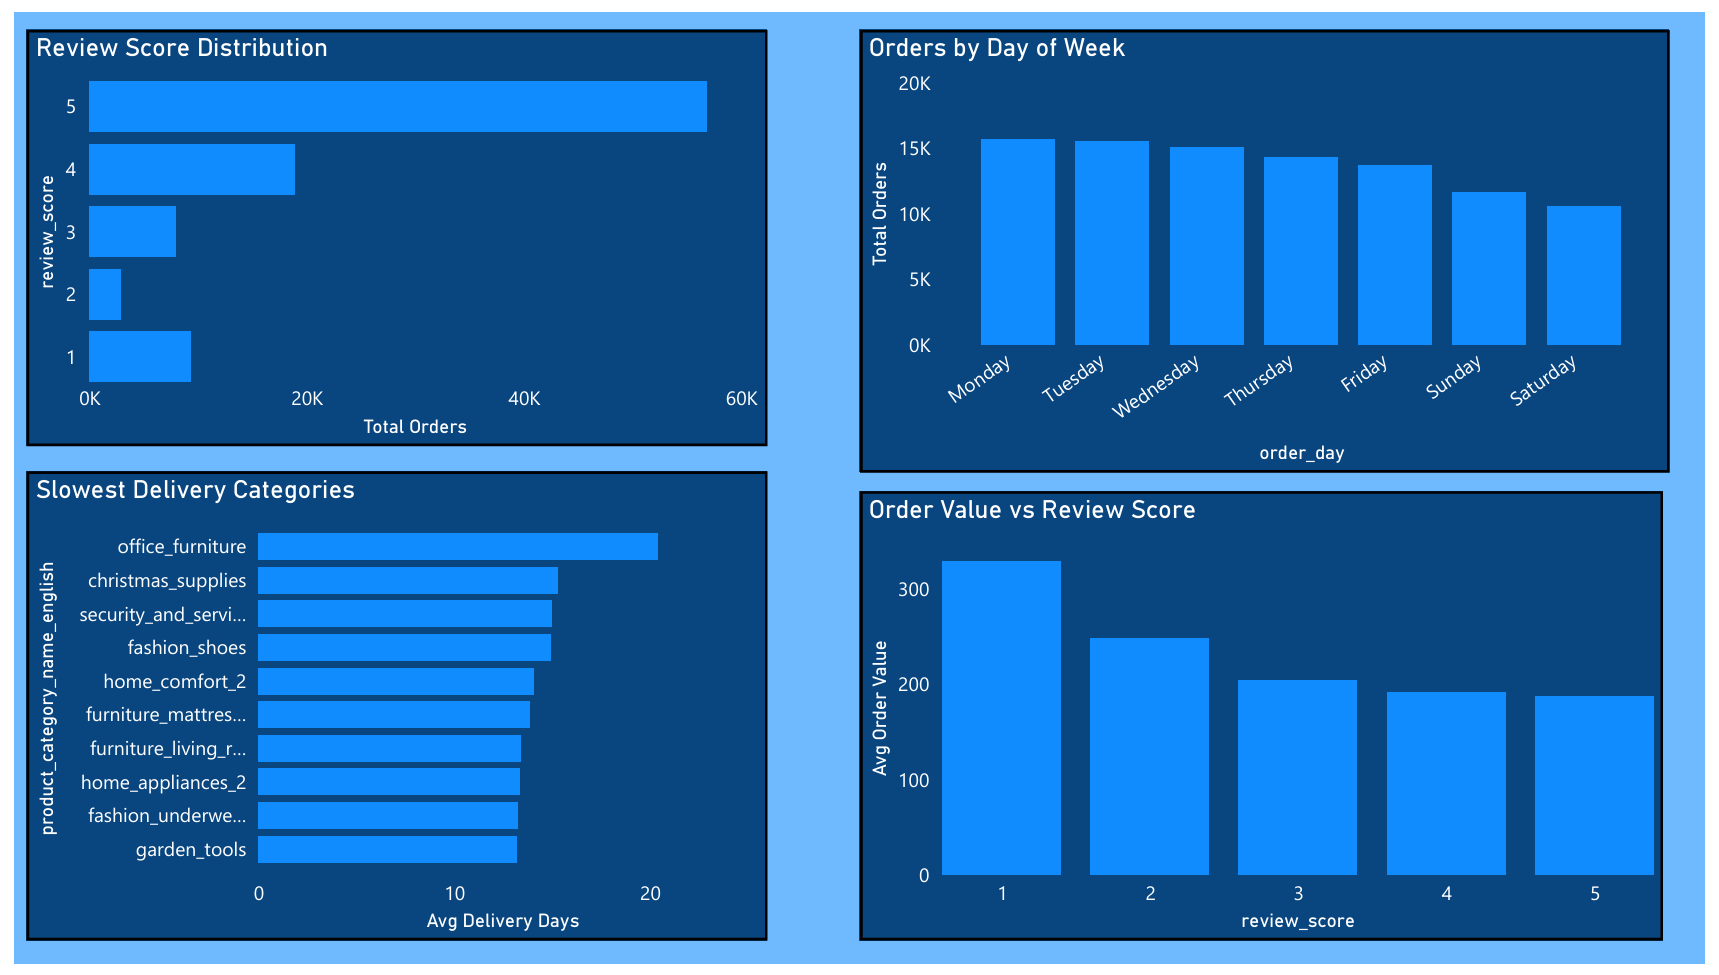

This screenshot's page, from the dashboard's own definition file:
{"tool":"powerbi","page":{"name":"Customer & Delivery Analysis","canvas":[1280,720],"ordinal":1},"visuals":[{"type":"clusteredBarChart","title":"Review Score Distribution","fields":{"Category":["master_clean.review_score"],"Y":["master_clean.Total Orders"]},"box":[9.5,13.3,560.5,314.3],"z":0},{"type":"clusteredColumnChart","title":"Orders by Day of Week","fields":{"Category":["master_clean.order_day"],"Y":["master_clean.Total Orders"]},"box":[640,13.3,613.5,335.1],"z":4},{"type":"clusteredColumnChart","title":"Order Value vs Review Score","fields":{"Category":["master_clean.review_score"],"Y":["master_clean.Avg Order Value"]},"box":[640,361.7,607.8,340.8],"z":5},{"type":"clusteredBarChart","title":"Slowest Delivery Categories","fields":{"Y":["master_clean.Avg Delivery Days"],"Category":["master_clean.product_category_name_english"]},"box":[9.5,346.5,560.5,356],"z":6}]}

Visuals, with their boxes in screenshot pixels (x1, y1, x2, y2), scaled from the page's 1280x720 canvas onto the 1719x975 screenshot:
"Review Score Distribution" clusteredBarChart: [x1=13, y1=18, x2=765, y2=444]
"Orders by Day of Week" clusteredColumnChart: [x1=860, y1=18, x2=1683, y2=472]
"Order Value vs Review Score" clusteredColumnChart: [x1=860, y1=490, x2=1676, y2=951]
"Slowest Delivery Categories" clusteredBarChart: [x1=13, y1=469, x2=765, y2=951]
